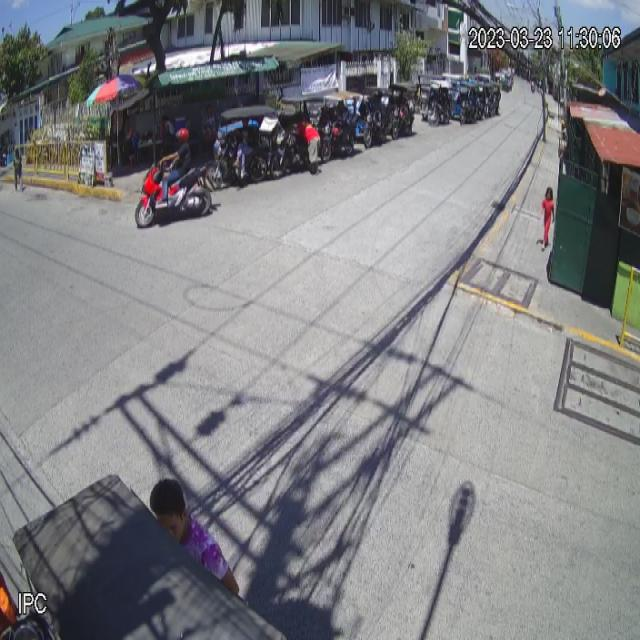Motorcycle: (133, 160, 214, 230)
